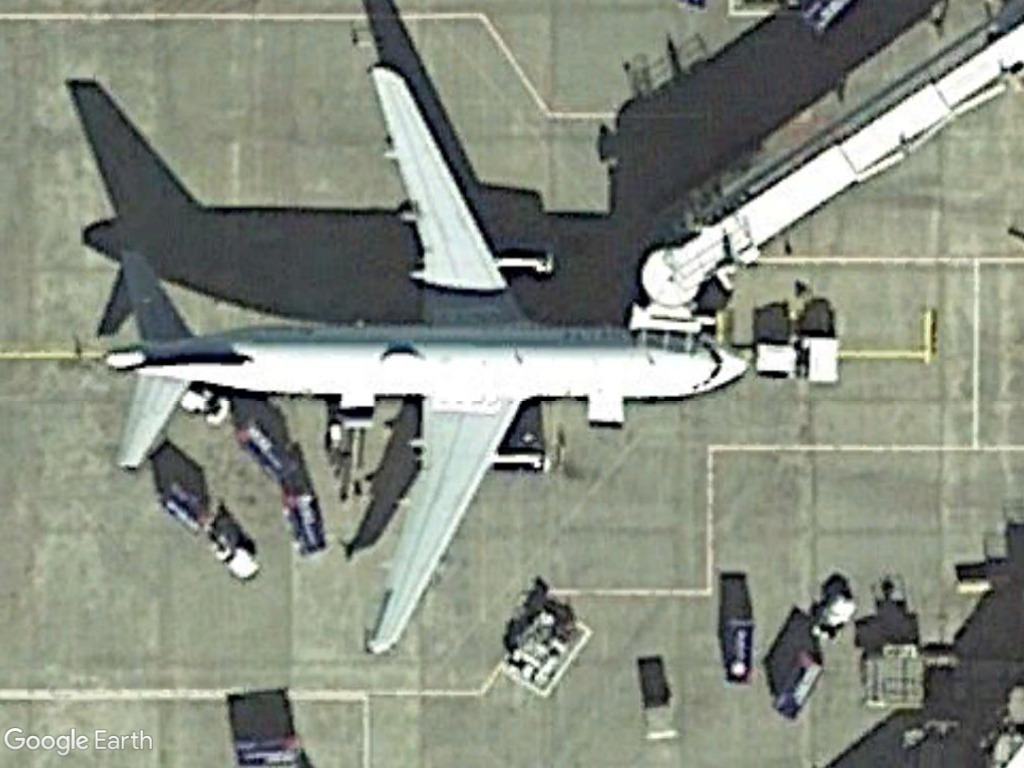airliner: (101, 57, 751, 669)
